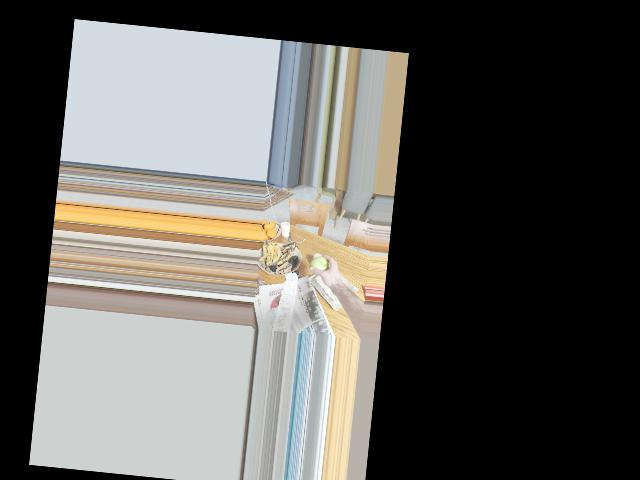apple: (310, 254, 334, 274)
